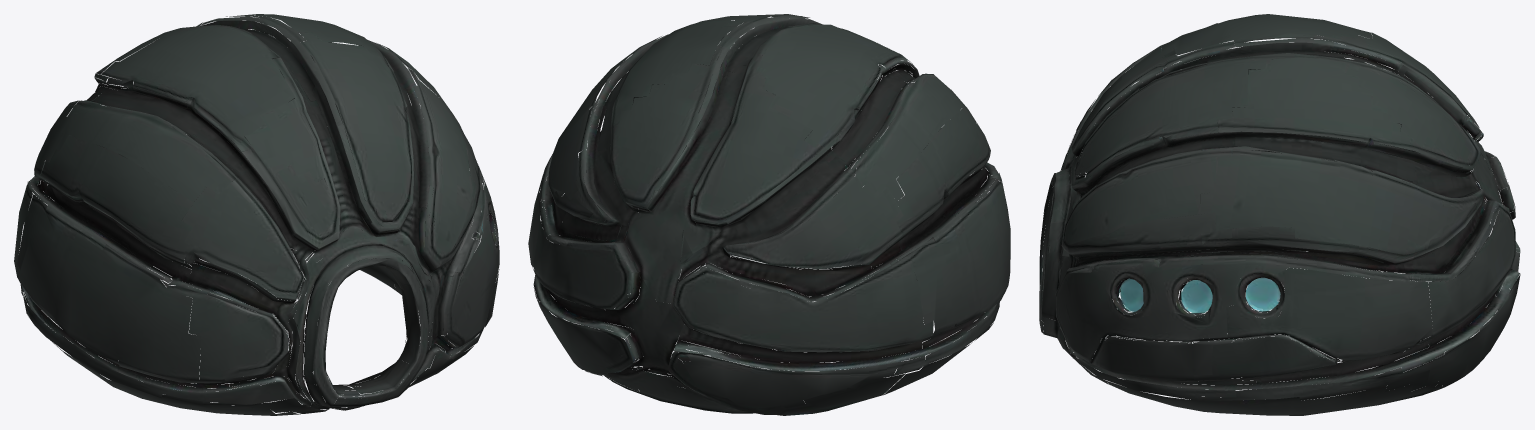
File: moon_alien_dome_shell.glb
The picture shows the model from 3 angles, left to right: view 1: azimuth 30°, elevation 25°; view 2: azimuth 150°, elevation 25°; view 3: azimuth 270°, elevation 25°; orthographic projection.
Visible parts, largest first — view 1: moon_alien_dome_shell; view 2: moon_alien_dome_shell; view 3: moon_alien_dome_shell.
Boxes of the visible parts, left/top/right/bottom form: moon_alien_dome_shell: left=14, top=14, right=499, bottom=415; moon_alien_dome_shell: left=528, top=14, right=1010, bottom=415; moon_alien_dome_shell: left=1039, top=14, right=1520, bottom=415.
Size of the model in its own units: 11.99 by 8.33 by 12.02.
Materials: 1 (1 with a texture image).
